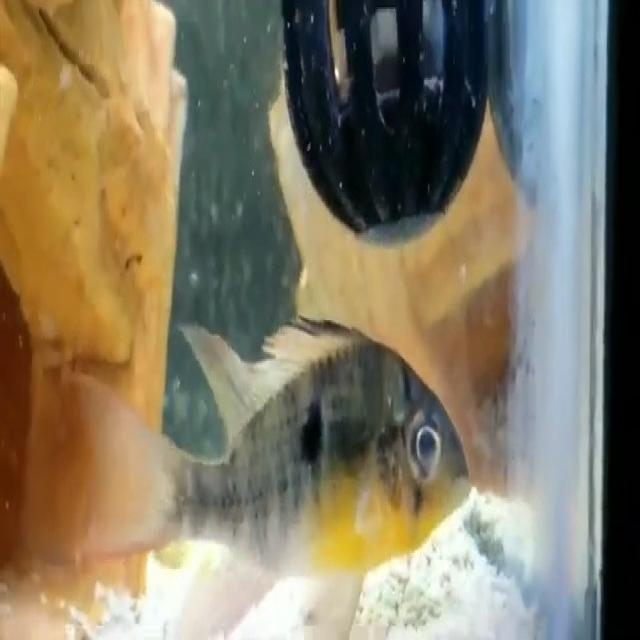fish: (67, 307, 482, 640)
